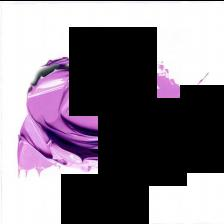purple: (18, 56, 186, 172)
